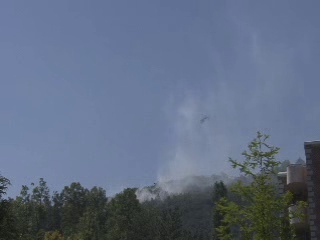smoke: (206, 46, 264, 186), (134, 111, 209, 203)
